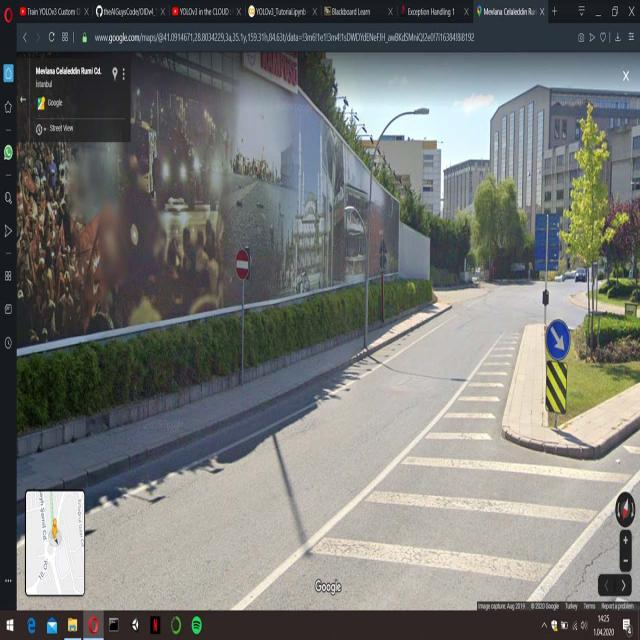girisyok: (236, 248, 250, 278)
